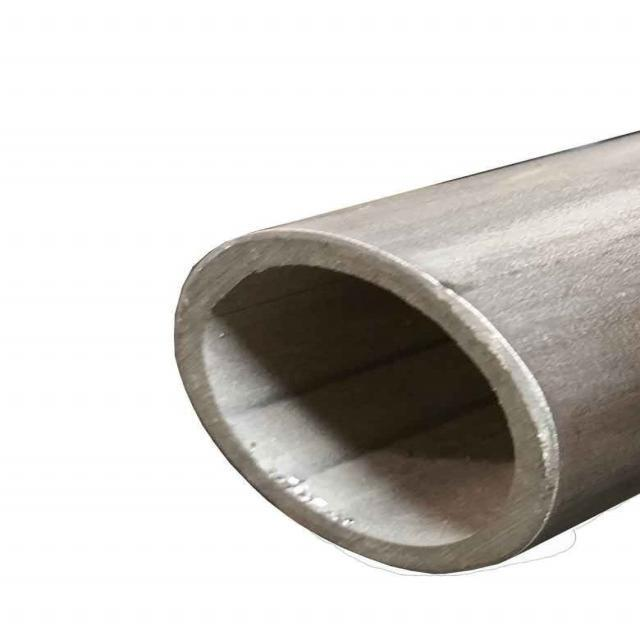pipe: (174, 224, 561, 578)
